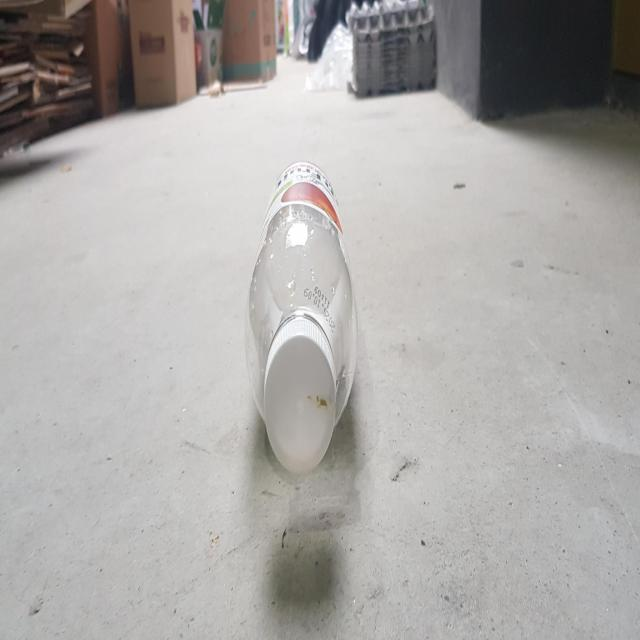plastic: (245, 160, 357, 473)
